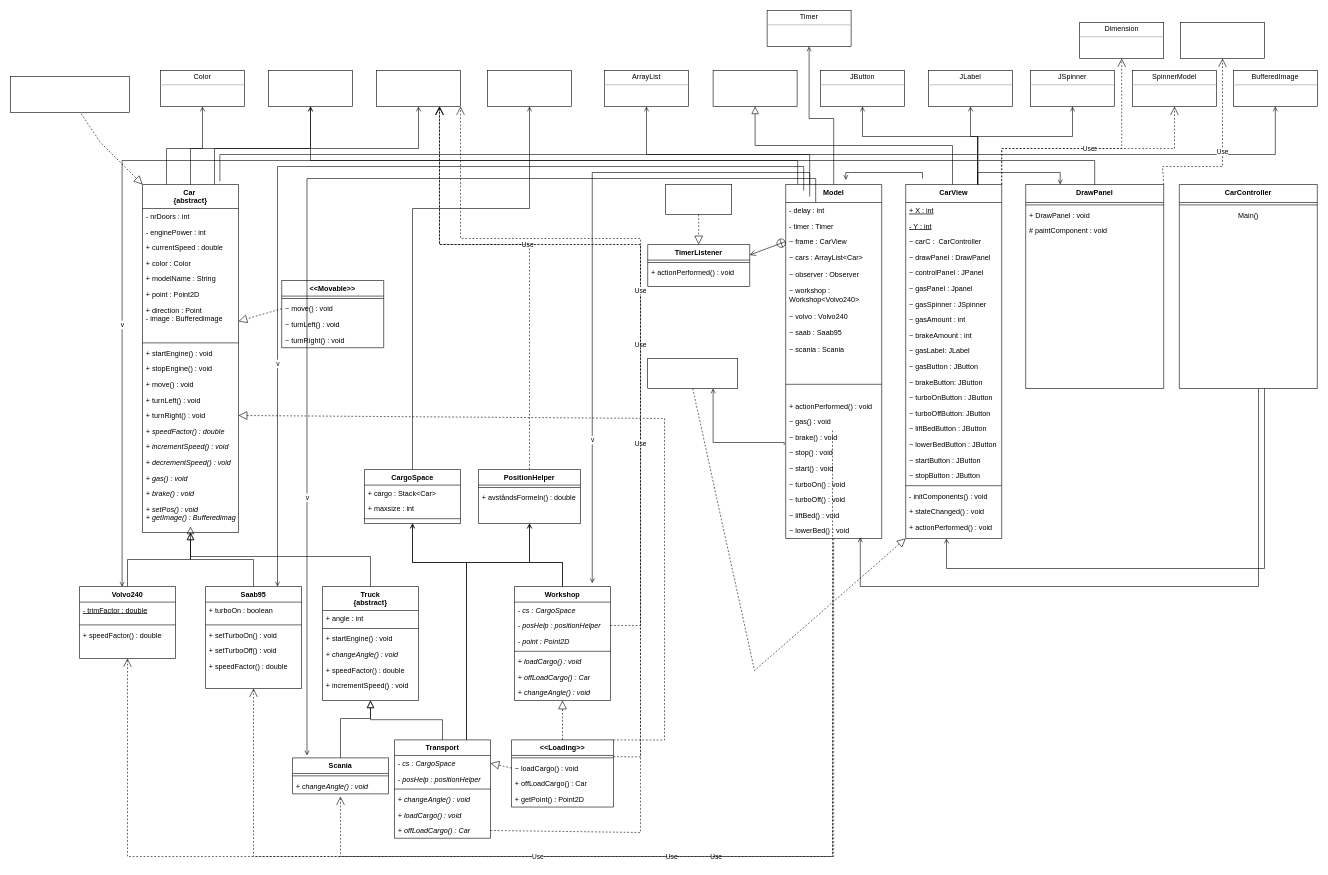
Image size: 1328x875. Some labels were removed from this diagram. The shapes that lost their labels are listed below. From the top down, each one's centre as x and y in pixels, then its label:
At (1222,40): "Graphics".
At (69,94): "«Drawable» getPoint() getImage()".
At (310,88): "Point".
At (418,88): "Point2D".
At (529,88): "Stack".
At (754,88): "JFrame".
At (698,199): "«interface» ActionListener".
At (692,373): "«Observer» actOnStatusChange(): void".
